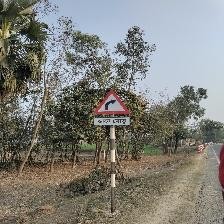Right-turn: (93, 89, 131, 127)
